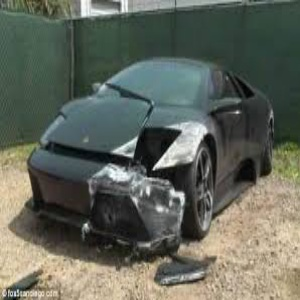bumper: (108, 167, 188, 257)
